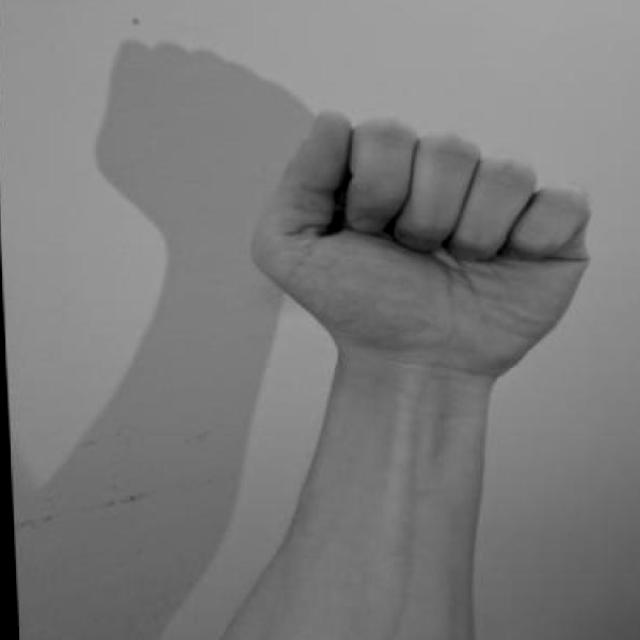-: (241, 97, 610, 395)
